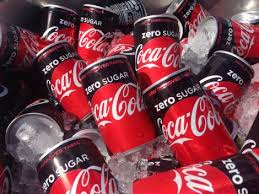can: (81, 54, 155, 162), (148, 70, 231, 161), (136, 12, 176, 99)
